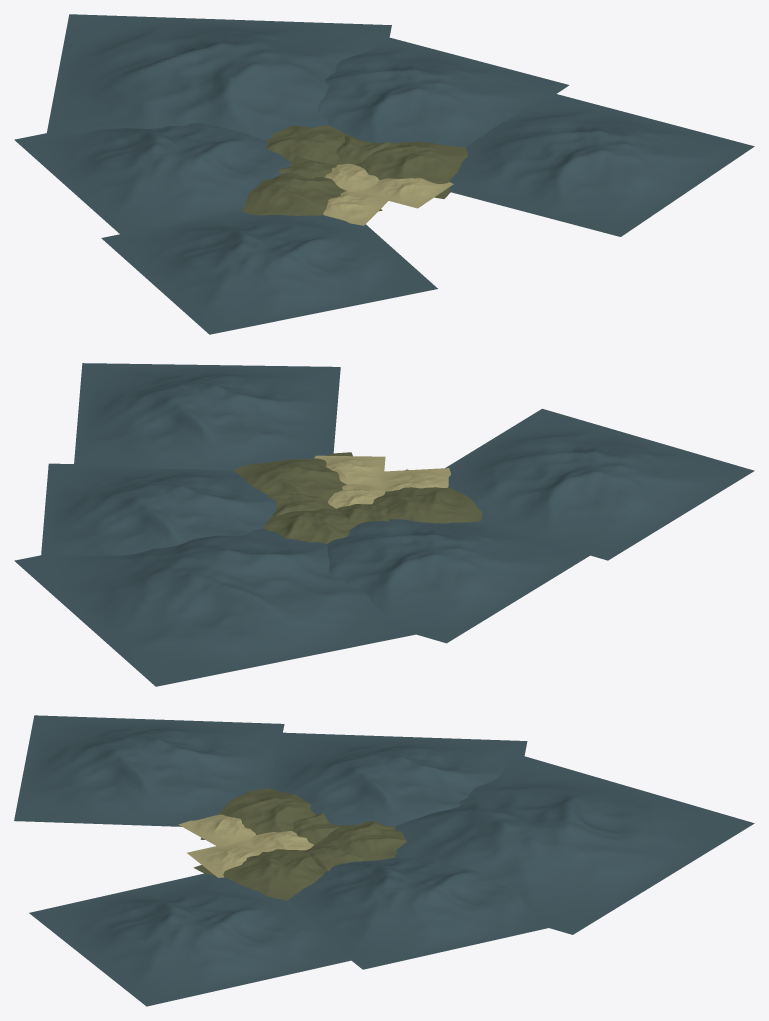
The model's file is underwaterScape.fbx.
3 views of the same model, one above another, from view 1: azimuth 30°, elevation 25°; view 2: azimuth 150°, elevation 25°; view 3: azimuth 270°, elevation 25° (orthographic). The views are drawn at different scales.
Parts seen in each view (by area): view 1: Landscape_6, Landscape_11, Landscape_12, Landscape_8, Landscape_7, Landscape_4, Landscape_5, Landscape_3, Landscape_1, Landscape_2, Landscape, Landscape_10 (+1 smaller); view 2: Landscape_6, Landscape_11, Landscape_12, Landscape_8, Landscape_7, Landscape_4, Landscape_5, Landscape_3, Landscape_1, Landscape_2, Landscape, Landscape_10 (+1 smaller); view 3: Landscape_6, Landscape_12, Landscape_11, Landscape_7, Landscape_8, Landscape_4, Landscape_5, Landscape_3, Landscape_2, Landscape_1, Landscape, Landscape_9 (+1 smaller).
Boxes of the visible parts, left/top/right/bottom form: Landscape_6: left=47, top=14, right=391, bottom=140; Landscape_11: left=101, top=211, right=437, bottom=334; Landscape_12: left=449, top=94, right=754, bottom=236; Landscape_8: left=14, top=123, right=290, bottom=234; Landscape_7: left=317, top=37, right=569, bottom=147; Landscape_4: left=355, top=141, right=467, bottom=198; Landscape_5: left=242, top=173, right=382, bottom=215; Landscape_3: left=265, top=125, right=348, bottom=165; Landscape_1: left=360, top=177, right=453, bottom=208; Landscape_2: left=323, top=191, right=388, bottom=225; Landscape: left=324, top=163, right=378, bottom=191; Landscape_10: left=336, top=135, right=390, bottom=164; Landscape_6: left=14, top=528, right=416, bottom=686; Landscape_11: left=445, top=408, right=754, bottom=560; Landscape_12: left=74, top=363, right=340, bottom=470; Landscape_8: left=327, top=519, right=590, bottom=643; Landscape_7: left=41, top=463, right=276, bottom=555; Landscape_4: left=232, top=452, right=352, bottom=501; Landscape_5: left=372, top=469, right=481, bottom=523; Landscape_3: left=262, top=508, right=357, bottom=543; Landscape_1: left=314, top=455, right=385, bottom=486; Landscape_2: left=380, top=468, right=450, bottom=491; Landscape: left=328, top=484, right=385, bottom=508; Landscape_10: left=267, top=494, right=334, bottom=516; Landscape_6: left=394, top=756, right=754, bottom=934; Landscape_12: left=29, top=873, right=350, bottom=1006; Landscape_11: left=14, top=715, right=284, bottom=826; Landscape_7: left=288, top=856, right=548, bottom=969; Landscape_8: left=268, top=732, right=527, bottom=826; Landscape_4: left=193, top=849, right=326, bottom=900; Landscape_5: left=200, top=788, right=315, bottom=839; Landscape_3: left=314, top=821, right=406, bottom=860; Landscape_2: left=178, top=814, right=255, bottom=845; Landscape_1: left=187, top=840, right=261, bottom=877; Landscape: left=249, top=831, right=314, bottom=851; Landscape_9: left=292, top=813, right=343, bottom=844.
Bounding box in the file's own units: 26161 × 1306 × 28127.
